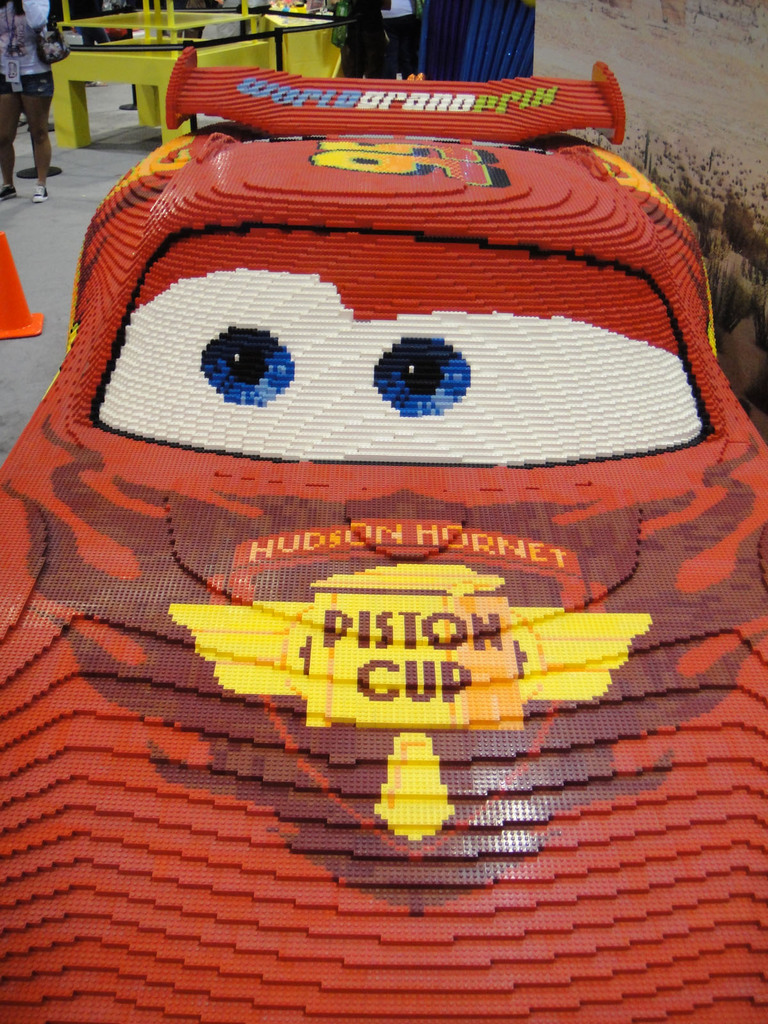Car: (0, 42, 767, 1023)
